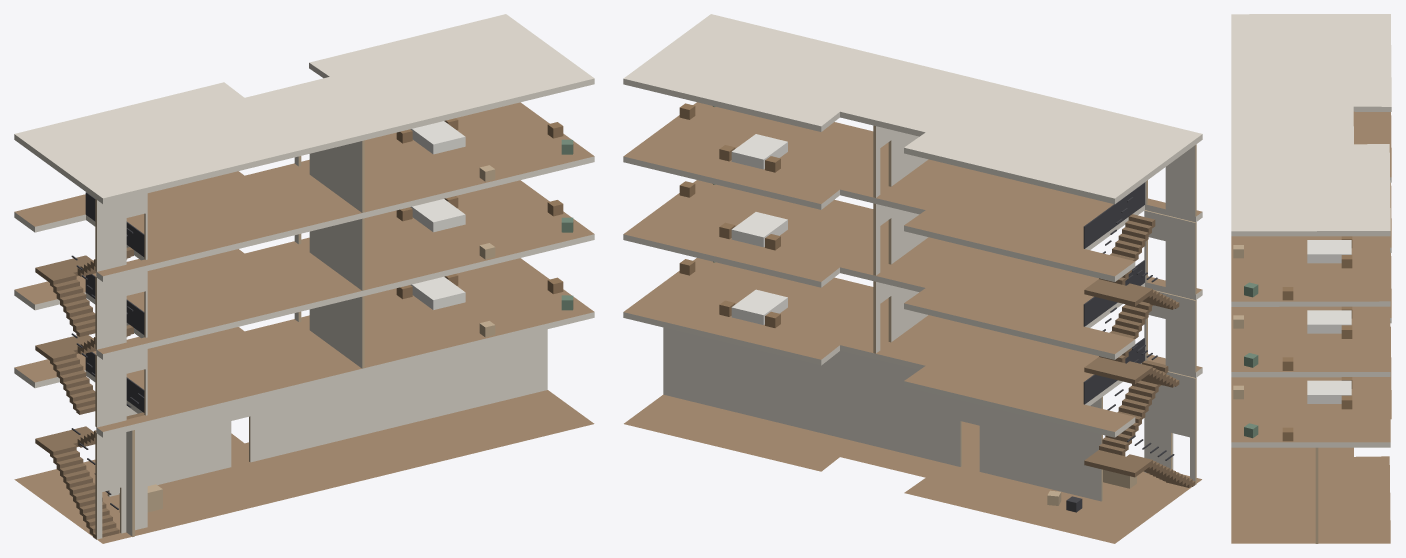
File: interior.glb
The picture shows the model from 3 angles, left to right: view 1: azimuth 30°, elevation 25°; view 2: azimuth 150°, elevation 25°; view 3: azimuth 270°, elevation 25°; orthographic projection. The views are drawn at different scales.
Visible parts, largest first — view 1: slabs, partitions, stair, coarse-s1, coarse-s2, coarse-s3; view 2: slabs, partitions, stair, coarse-s1, coarse-s3, coarse-s2, coarse-s0; view 3: slabs, coarse-s1, coarse-s2, coarse-s3, partitions.
Boxes of the visible parts, x1,y1,x2,y2 form: slabs: (14, 14, 594, 543); partitions: (95, 140, 547, 539); stair: (35, 192, 144, 538); coarse-s1: (396, 274, 573, 337); coarse-s2: (396, 196, 573, 259); coarse-s3: (396, 118, 573, 181); slabs: (623, 14, 1202, 543); partitions: (663, 125, 1196, 501); stair: (1083, 182, 1195, 487); coarse-s1: (679, 259, 787, 327); coarse-s3: (679, 103, 787, 172); coarse-s2: (679, 181, 787, 250); coarse-s0: (1047, 469, 1136, 512); slabs: (1231, 14, 1391, 543); coarse-s1: (1233, 377, 1352, 441); coarse-s2: (1233, 306, 1352, 370); coarse-s3: (1233, 236, 1352, 300); partitions: (1315, 447, 1318, 543).
Size of the model in its own units: 23.23 by 15.6 by 7.26.
